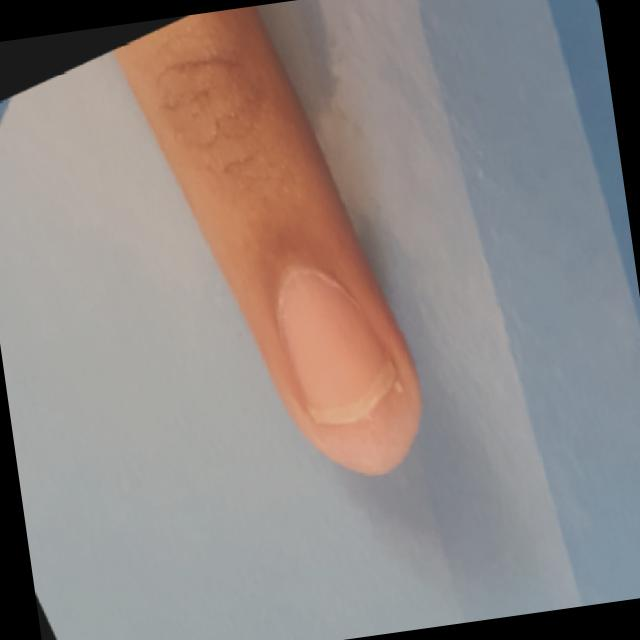Nail: (278, 274, 400, 425)
